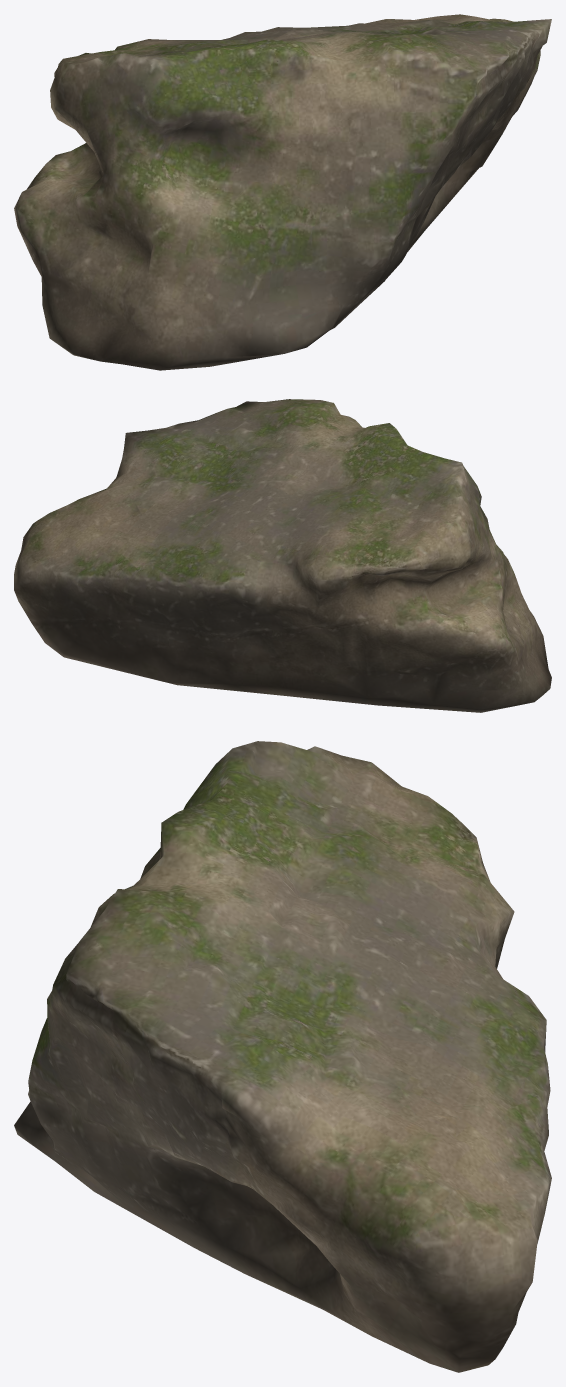
The model's file is kamen_maly_3.glb.
The picture shows the model from 3 angles, top to bottom: view 1: azimuth 30°, elevation 25°; view 2: azimuth 150°, elevation 25°; view 3: azimuth 270°, elevation 25°; orthographic projection. The views are drawn at different scales.
Visible parts, largest first — view 1: kamen_maly_3; view 2: kamen_maly_3; view 3: kamen_maly_3.
Part boxes in pixels (x1,y1,x2,y2): kamen_maly_3: [14, 14, 551, 370]; kamen_maly_3: [14, 399, 551, 712]; kamen_maly_3: [14, 741, 551, 1372].
Size of the model in its own units: 0.3411 by 0.1625 by 0.2115.
Materials: 1 (1 with a texture image).
